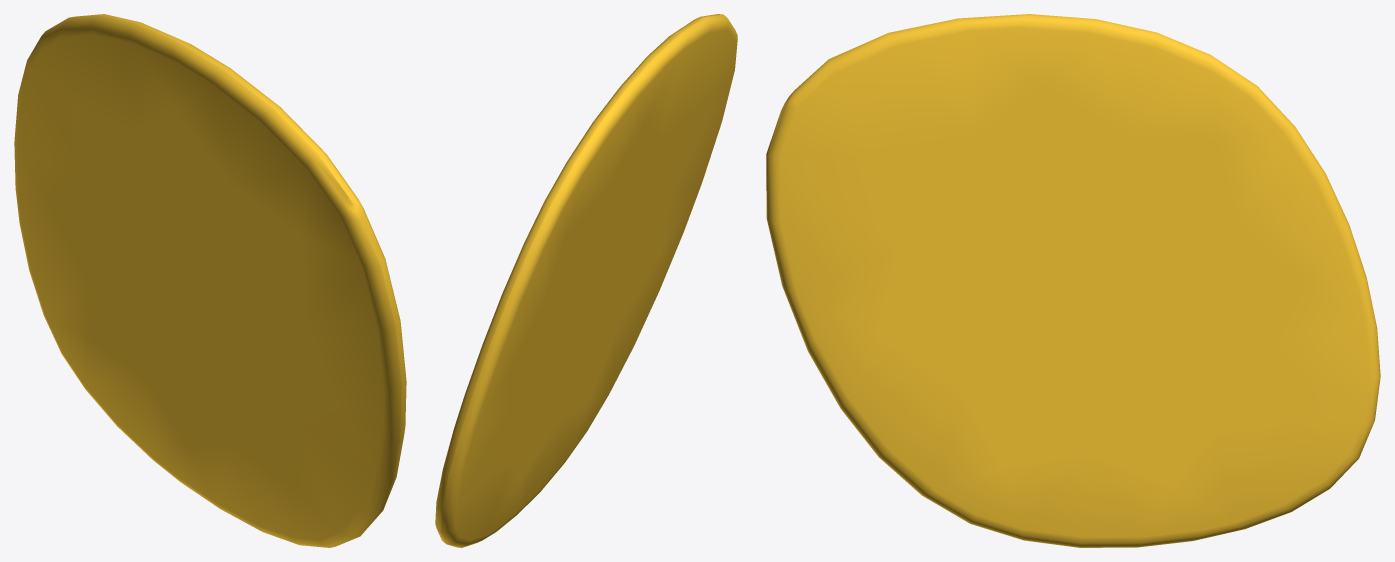
Rendered from fallLeaf_14.glb.
3 views of the same model, side by side, from view 1: azimuth 30°, elevation 25°; view 2: azimuth 150°, elevation 25°; view 3: azimuth 270°, elevation 25° (orthographic). The views are drawn at different scales.
Parts seen in each view (by area): view 1: Leaf_YellowGreen_Wide.216; view 2: Leaf_YellowGreen_Wide.216; view 3: Leaf_YellowGreen_Wide.216.
Part boxes in pixels (box(x1,y1,x2,y2)): Leaf_YellowGreen_Wide.216: box(14, 14, 406, 547); Leaf_YellowGreen_Wide.216: box(435, 14, 737, 547); Leaf_YellowGreen_Wide.216: box(766, 14, 1380, 547).
Bounding box in the file's own units: 0.4568 × 1.6 × 1.85.
